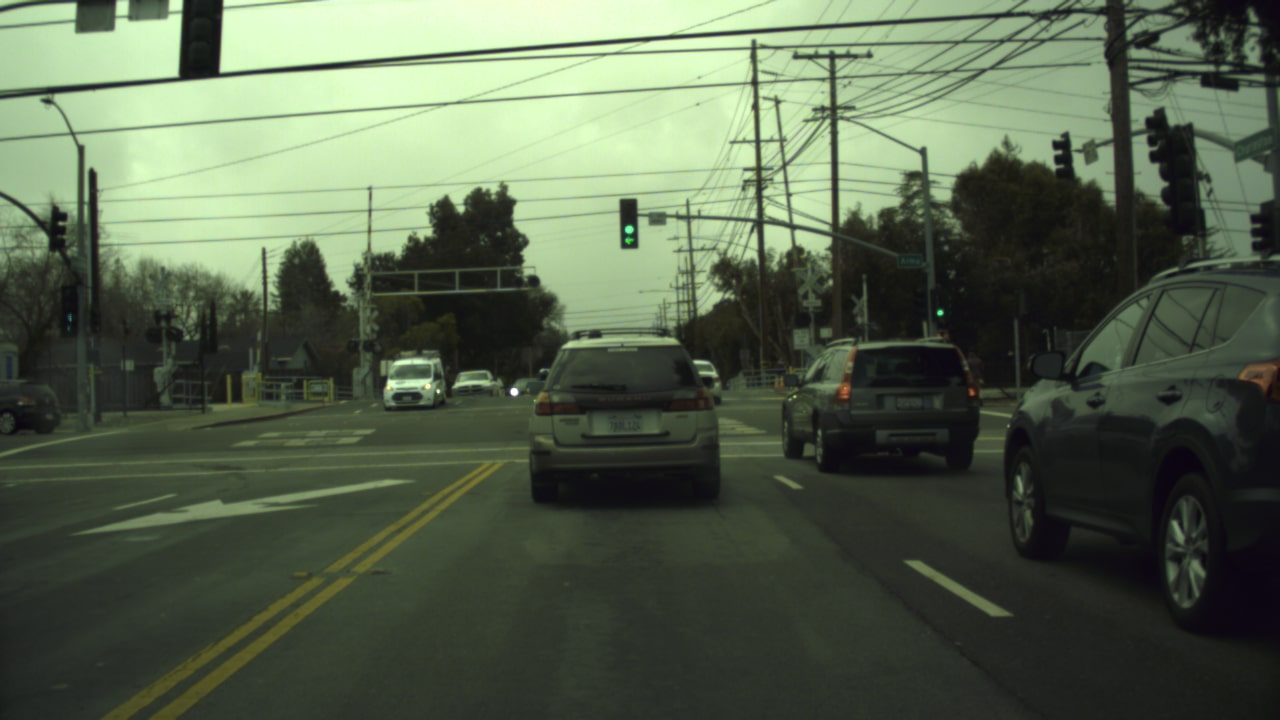signal: (618, 198, 639, 250), (933, 296, 952, 327)
